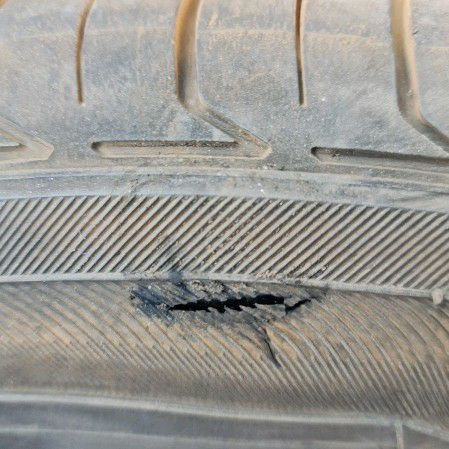cut: (150, 293, 329, 369)
